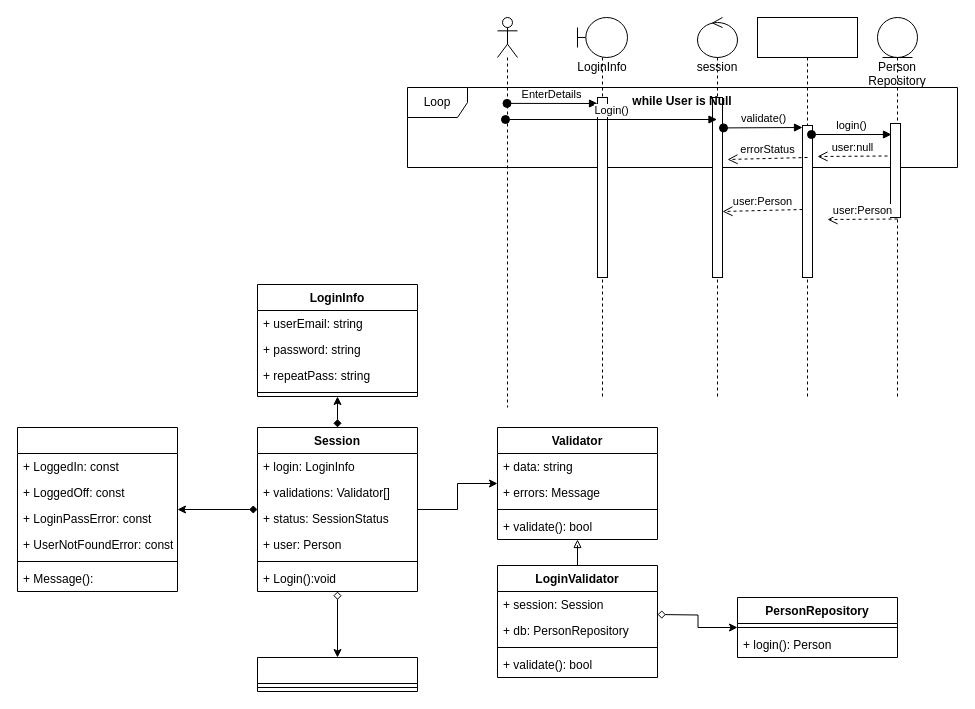
This 975x709 diagram has some shape labels left out. Each missing label, with the box of its shape:
:LoginValidator: (756, 16, 858, 398)
Person: (256, 656, 418, 692)
SessionStatus: (16, 426, 178, 592)
user: (496, 16, 518, 408)
